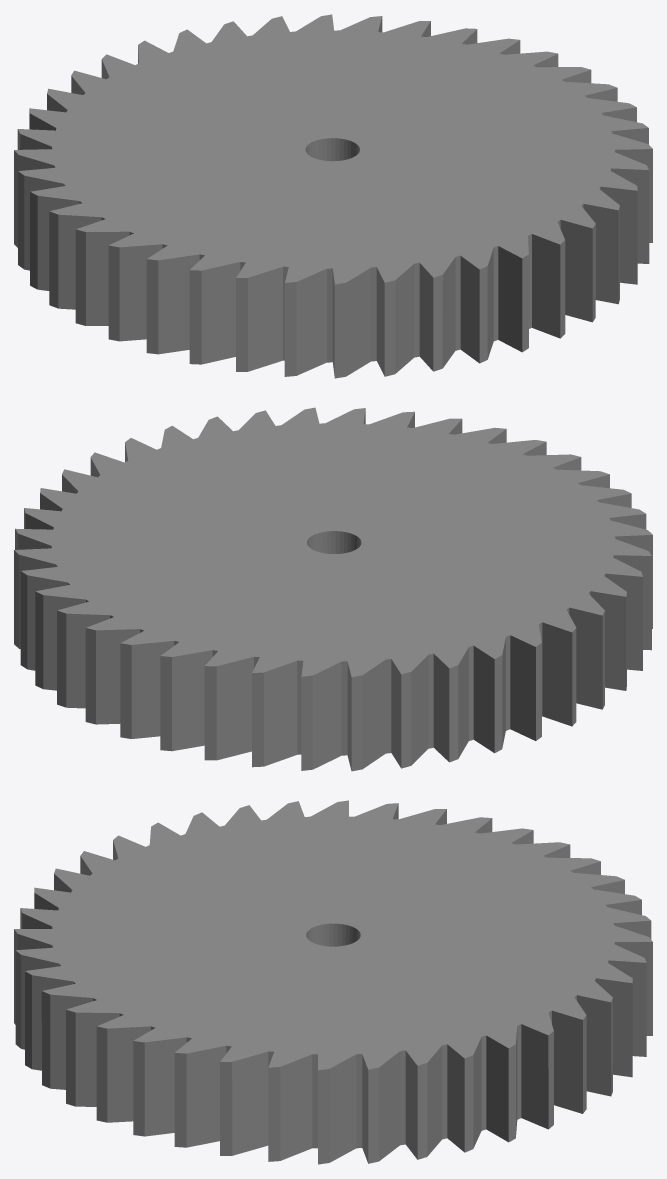
The model's file is Saw.fbx.
The picture shows the model from 3 angles, top to bottom: view 1: azimuth 30°, elevation 25°; view 2: azimuth 150°, elevation 25°; view 3: azimuth 270°, elevation 25°; orthographic projection.
Parts seen in each view (by area): view 1: 丸鋸; view 2: 丸鋸; view 3: 丸鋸.
Part boxes in pixels (<box>): 丸鋸: <box>14,14,652,378</box>; 丸鋸: <box>14,407,652,771</box>; 丸鋸: <box>14,800,652,1164</box>.
Size of the model in its own units: 30.81 by 5.02 by 30.81.
Materials: 1 (1 with a texture image).
